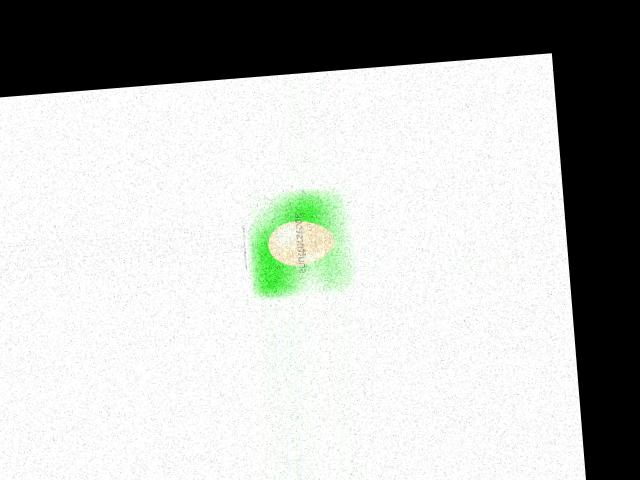egg: (266, 217, 336, 267)
